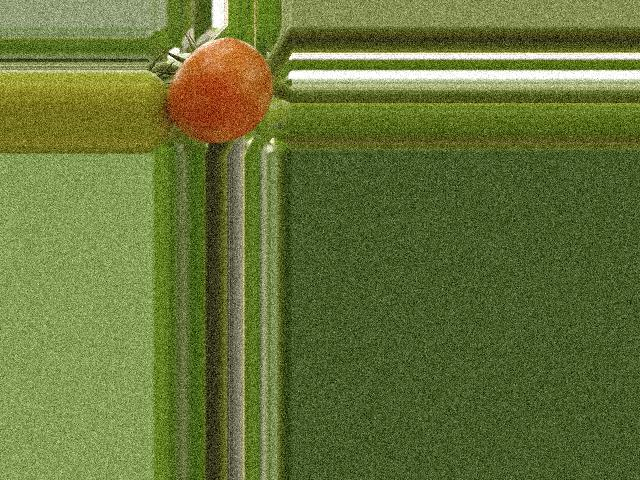tomato: (166, 37, 272, 143)
